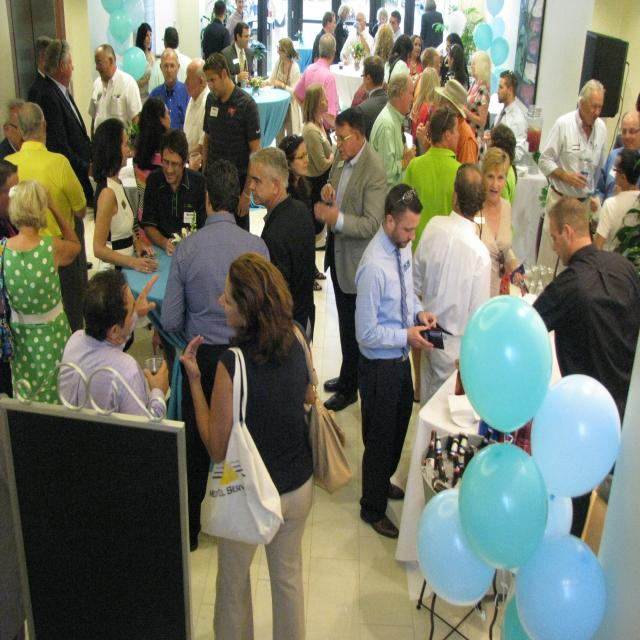body: (177, 252, 320, 640), (153, 156, 276, 553), (528, 196, 640, 539), (349, 177, 440, 540), (314, 106, 387, 414), (411, 159, 493, 403), (2, 101, 88, 331), (0, 179, 84, 406), (401, 105, 462, 402), (55, 266, 170, 421), (533, 79, 607, 299), (246, 147, 316, 346), (90, 115, 158, 276), (202, 52, 262, 233), (34, 38, 94, 210), (470, 148, 528, 300), (142, 128, 208, 260), (87, 43, 142, 180), (301, 82, 336, 293), (368, 70, 418, 197), (415, 78, 480, 167), (593, 147, 640, 252), (593, 110, 640, 214), (132, 96, 164, 247), (482, 70, 530, 167), (260, 36, 300, 148), (293, 33, 339, 130), (482, 122, 518, 242), (147, 46, 192, 132), (461, 50, 492, 174), (183, 58, 211, 172), (354, 54, 389, 143), (409, 66, 442, 158), (148, 26, 192, 94), (278, 133, 314, 212), (219, 22, 256, 95), (26, 34, 54, 108), (134, 22, 158, 108), (611, 89, 640, 159), (383, 34, 414, 94), (340, 12, 374, 66), (202, 0, 231, 61), (436, 33, 466, 88), (0, 96, 26, 159), (414, 47, 442, 105), (310, 10, 336, 64), (344, 75, 390, 105), (419, 0, 444, 54), (442, 43, 468, 92), (332, 2, 350, 64), (225, 0, 248, 45), (373, 22, 396, 64), (406, 34, 424, 77), (388, 10, 403, 47), (371, 7, 389, 37)
